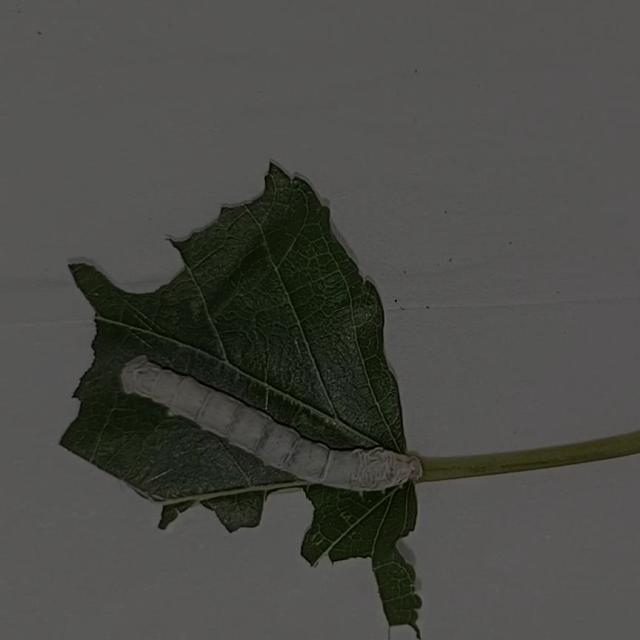Healthy: (104, 307, 439, 514)
